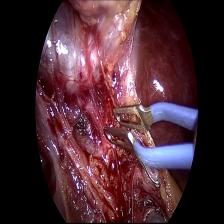Bipolar: (101, 98, 200, 174)
